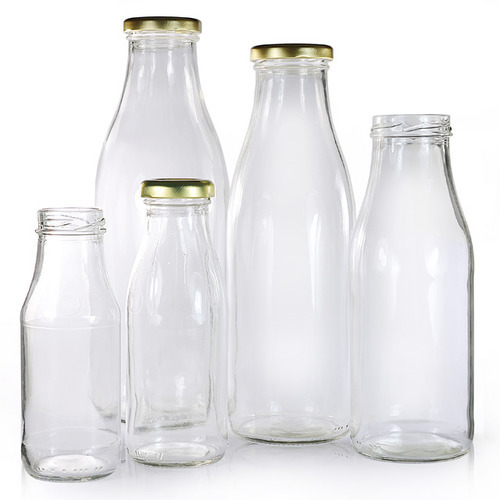emptybottle: (95, 19, 229, 430), (226, 46, 355, 444), (348, 114, 473, 462), (125, 179, 228, 467), (21, 209, 123, 480)
